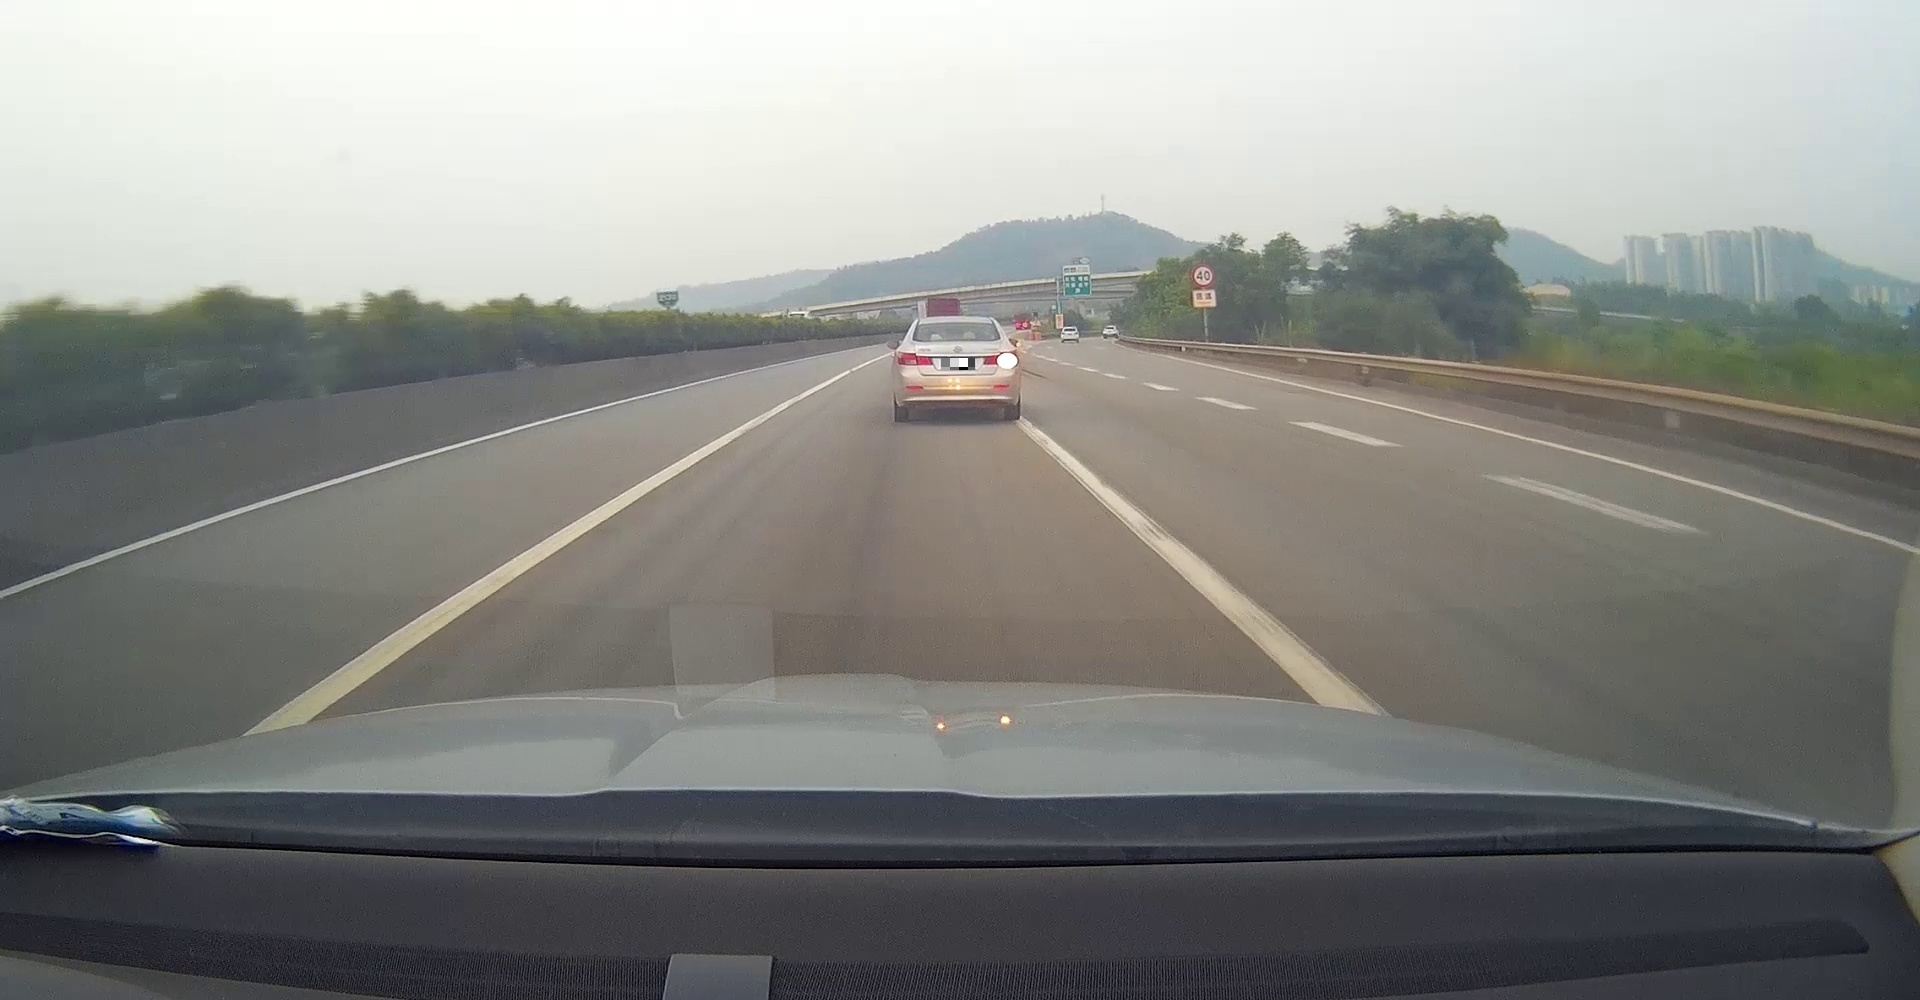L_light: (898, 352, 933, 365)
R_light: (983, 352, 1018, 365)
T_light: (949, 322, 963, 325)
day-right: (894, 315, 1018, 423)
plate_1: (941, 358, 975, 371)
